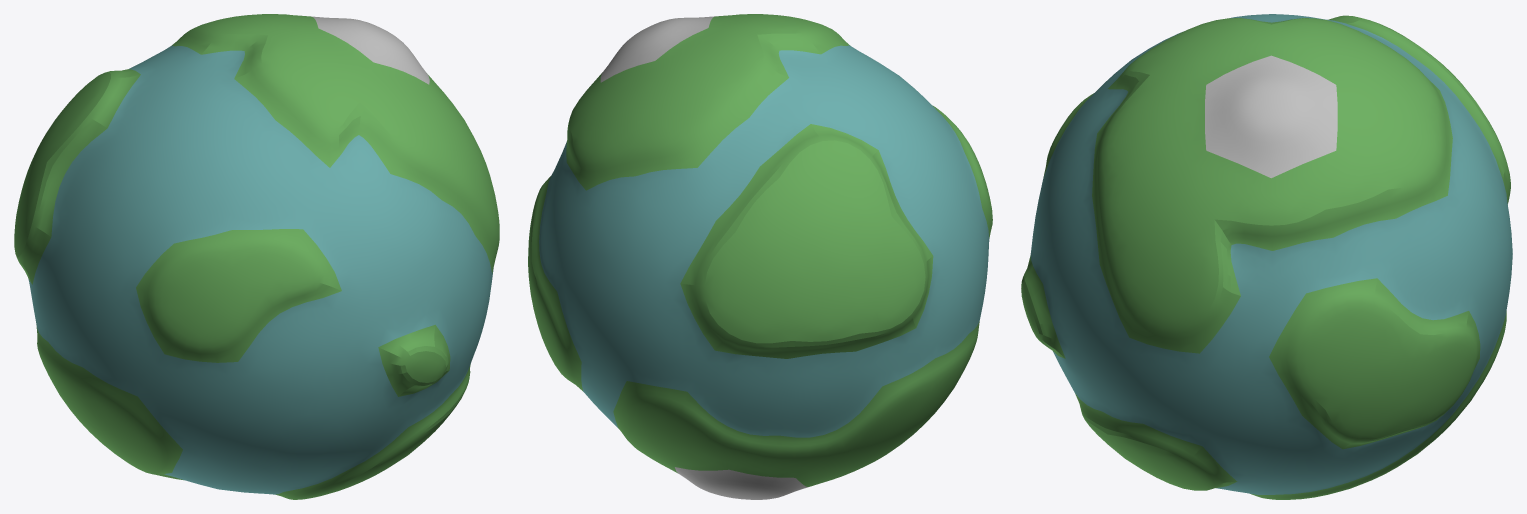
File: planet_dead.repacked.glb
The picture shows the model from 3 angles, left to right: view 1: azimuth 30°, elevation 25°; view 2: azimuth 150°, elevation 25°; view 3: azimuth 270°, elevation 25°; orthographic projection. The views are drawn at different scales.
Visible parts, largest first — view 1: Planet_1; view 2: Planet_1; view 3: Planet_1.
Part boxes in pixels (x1,y1,x2,y2): Planet_1: (14,14,499,499); Planet_1: (528,14,992,499); Planet_1: (1021,14,1512,499).
Bounding box in the file's own units: 3.79 × 3.93 × 3.82.
Materials: 1 (1 with a texture image).
